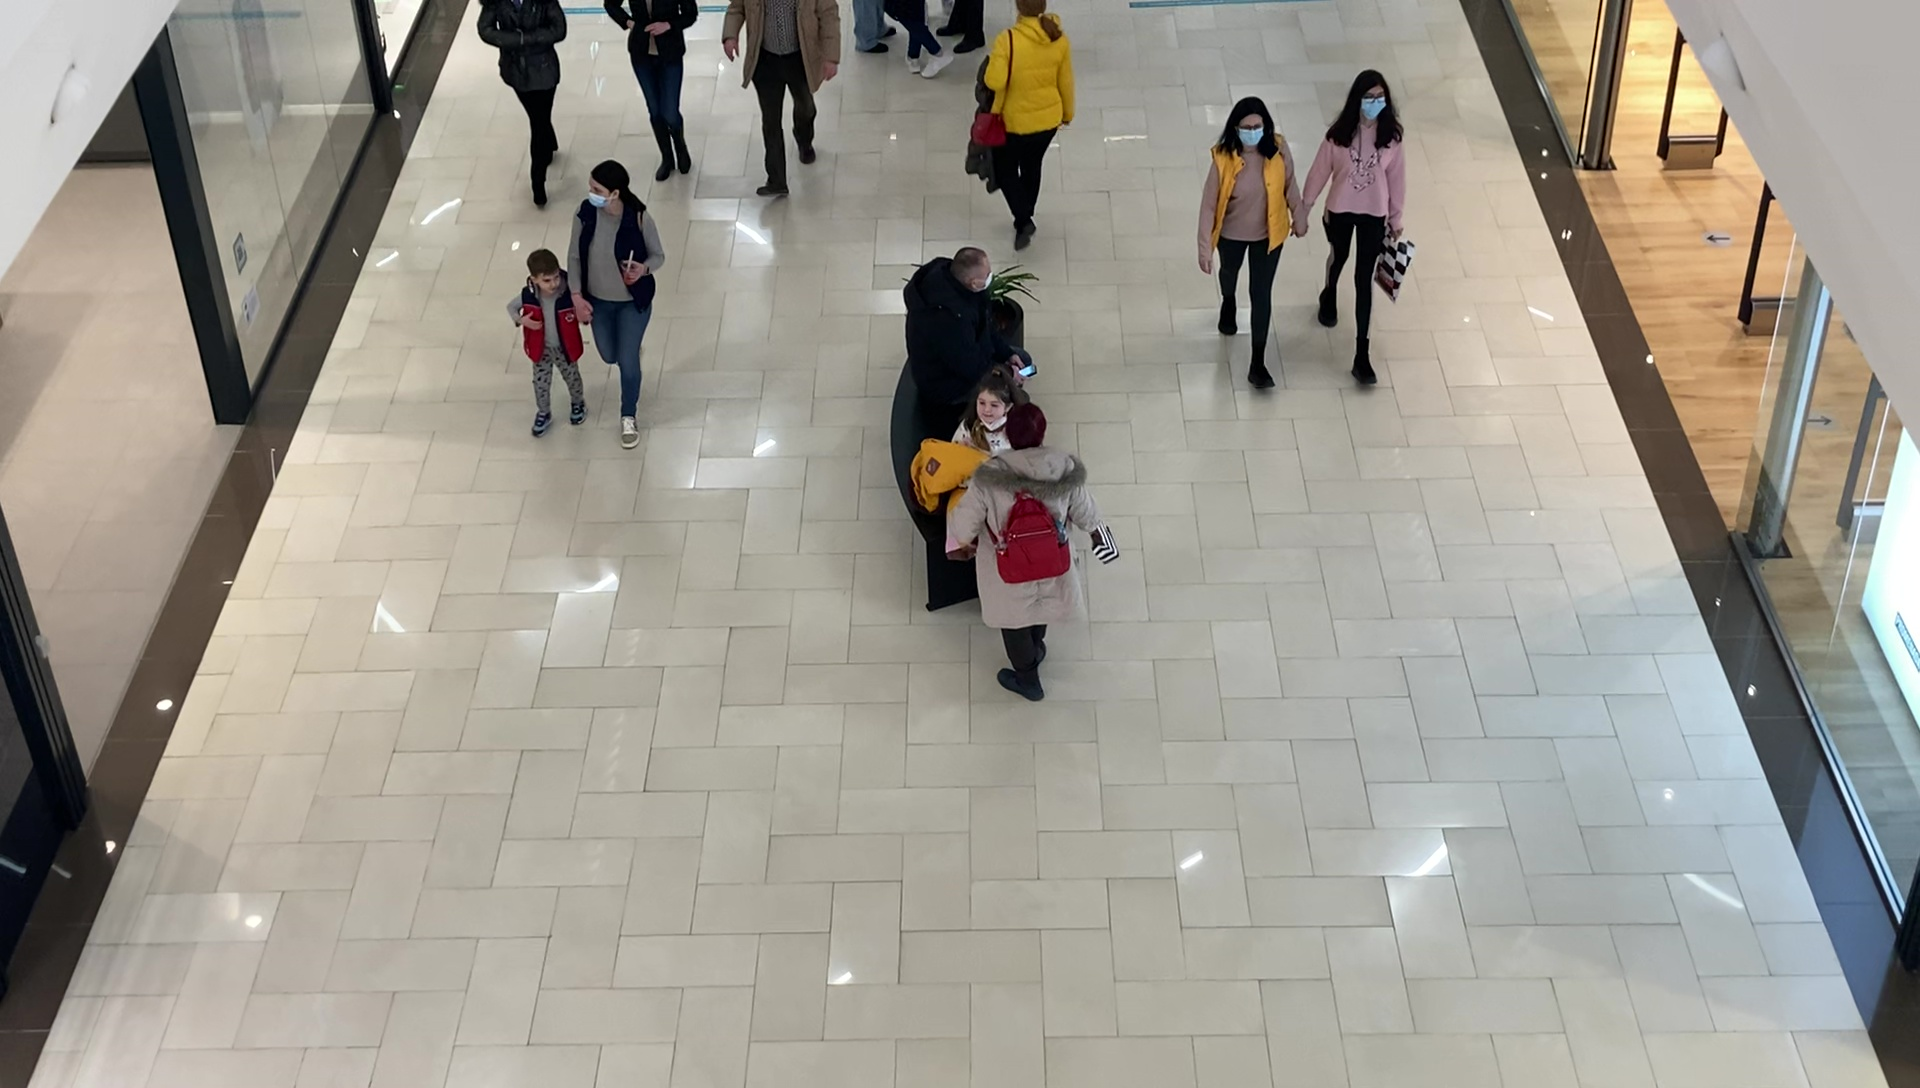person: (1298, 69, 1408, 387), (1196, 98, 1303, 390), (565, 163, 665, 450), (973, 1, 1077, 248), (722, 1, 840, 199), (476, 1, 570, 206), (507, 248, 594, 436), (602, 1, 697, 173)
